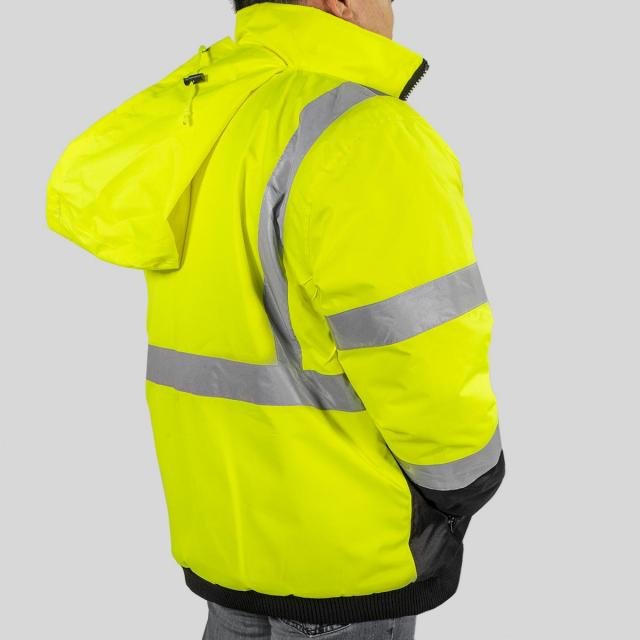Reflective-Jacket: (88, 1, 510, 610)
